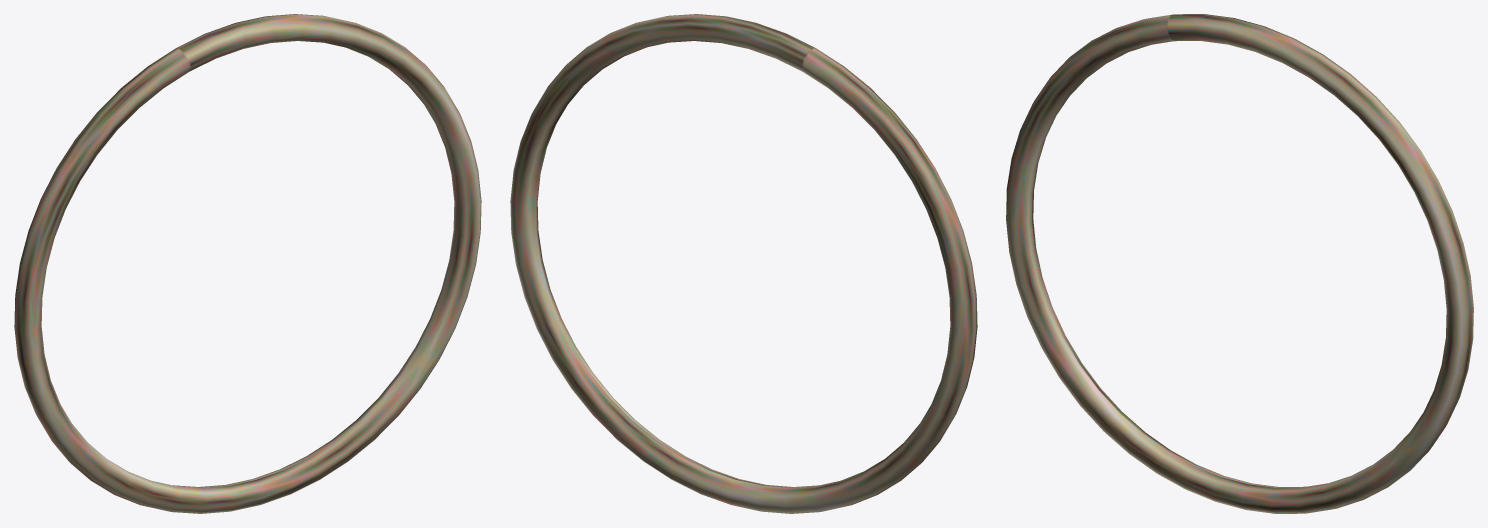
Rendered from blow_something5.glb.
3 views of the same model, side by side, from view 1: azimuth 30°, elevation 25°; view 2: azimuth 150°, elevation 25°; view 3: azimuth 330°, elevation 25° (orthographic).
Parts seen in each view (by area): view 1: Torus.001; view 2: Torus.001; view 3: Torus.001.
Boxes of the visible parts, x1,y1,x2,y2 form: Torus.001: (14,14,481,513); Torus.001: (510,14,977,513); Torus.001: (1006,14,1473,513).
Size of the model in its own units: 4.32 by 4.32 by 0.22.
Materials: 1 (1 with a texture image).
